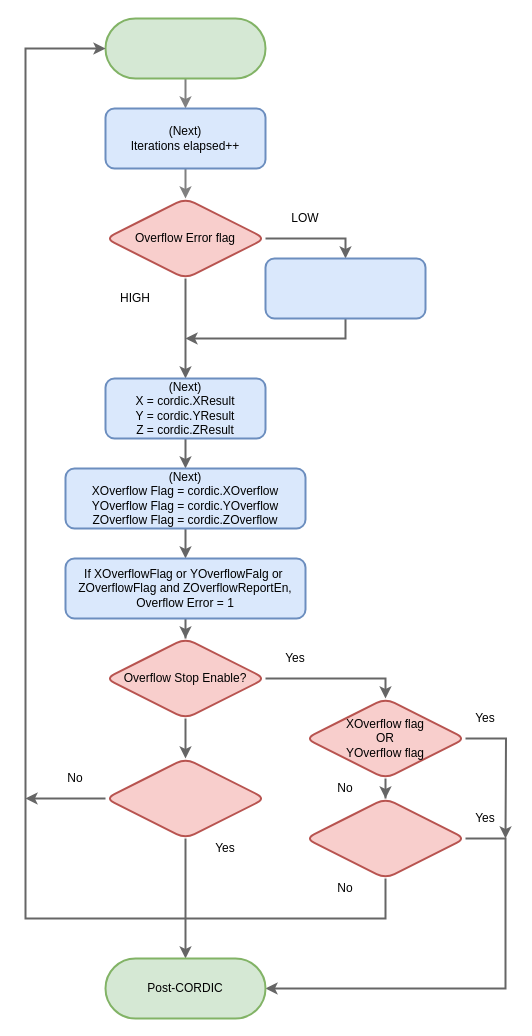
Some shapes in this 532 by 1036 pixel diagram are drawn without their labels. Each missing label, with the centre of its shape:
"(Next) Overflow iterations = (Next) Iterations Elapsed" goes at point (345, 288).
"CORDIC" goes at point (185, 48).
"Next Iterations Elapsed = Iteration count?" goes at point (185, 798).
"ZOverflow flag AND ZOverflow Stop En" goes at point (385, 838).
